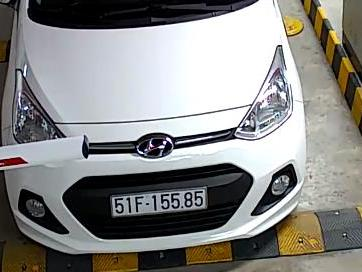car: (109, 187, 209, 219)
